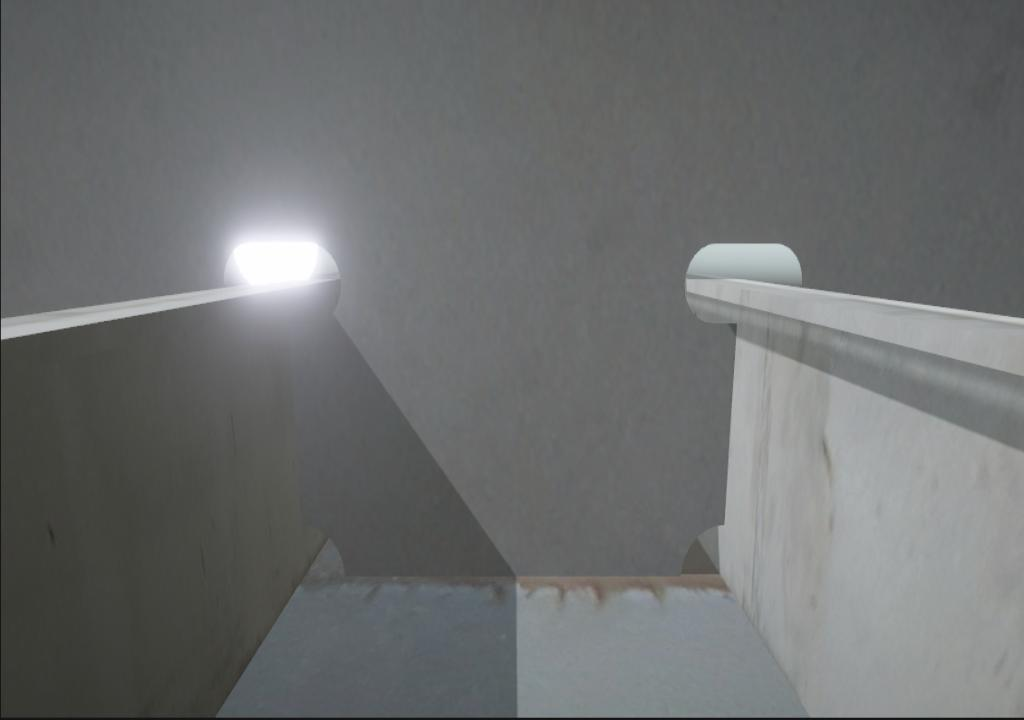fillet_yong_jeop_jang: (344, 565, 688, 587)
longi_yong_jeop_jang: (279, 312, 314, 541), (716, 313, 741, 533), (682, 525, 725, 579), (302, 525, 344, 577)
